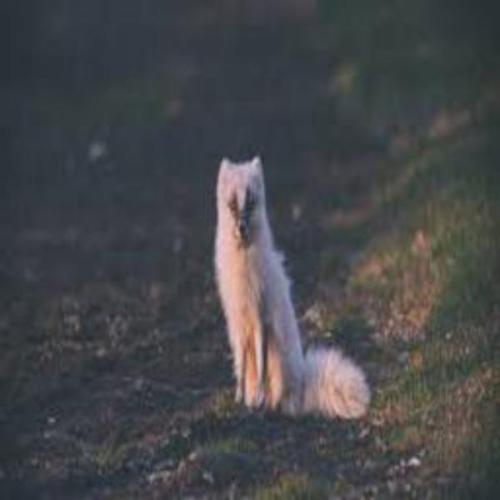arctic_fox-endangered: (212, 157, 371, 420)
